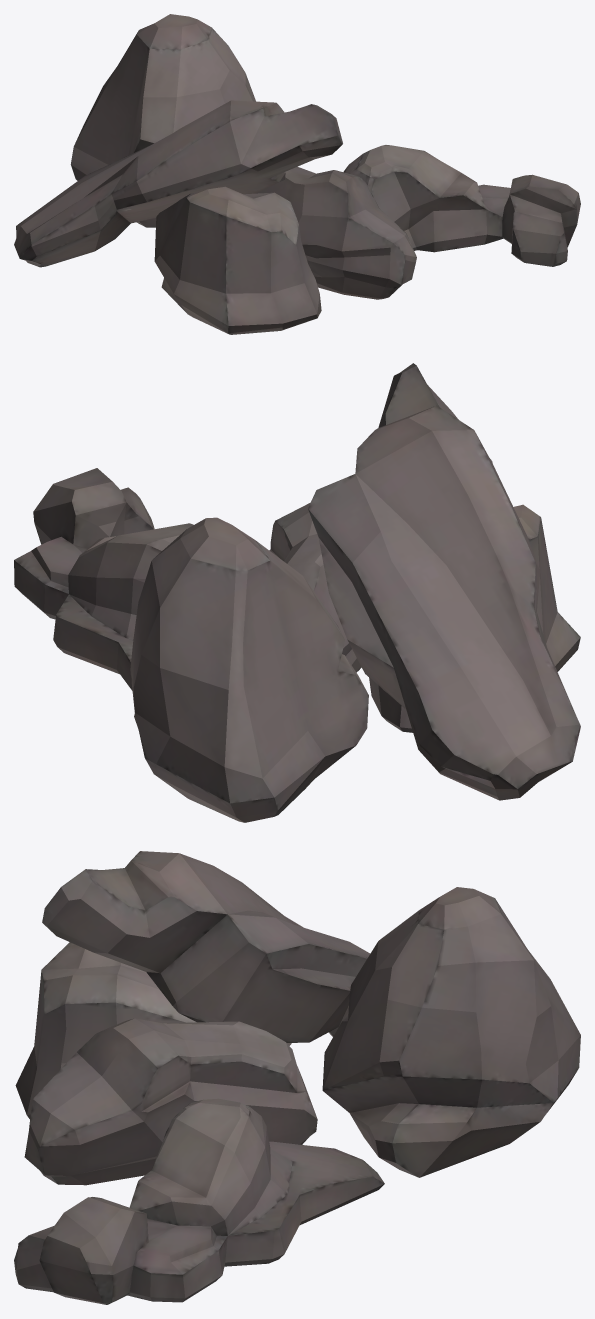
3 views of the same model, one above another, from view 1: azimuth 30°, elevation 25°; view 2: azimuth 150°, elevation 25°; view 3: azimuth 270°, elevation 25° (orthographic). The views are drawn at different scales.
Parts seen in each view (by area): view 1: body0_model0_lod0_mesh0; view 2: body0_model0_lod0_mesh0; view 3: body0_model0_lod0_mesh0.
Part boxes in pixels (bbox=[...]): body0_model0_lod0_mesh0: bbox=[14, 14, 580, 334]; body0_model0_lod0_mesh0: bbox=[14, 363, 580, 822]; body0_model0_lod0_mesh0: bbox=[14, 851, 580, 1304].
Size of the model in its own units: 922 by 376 by 709.
1 material, 1 textured.
